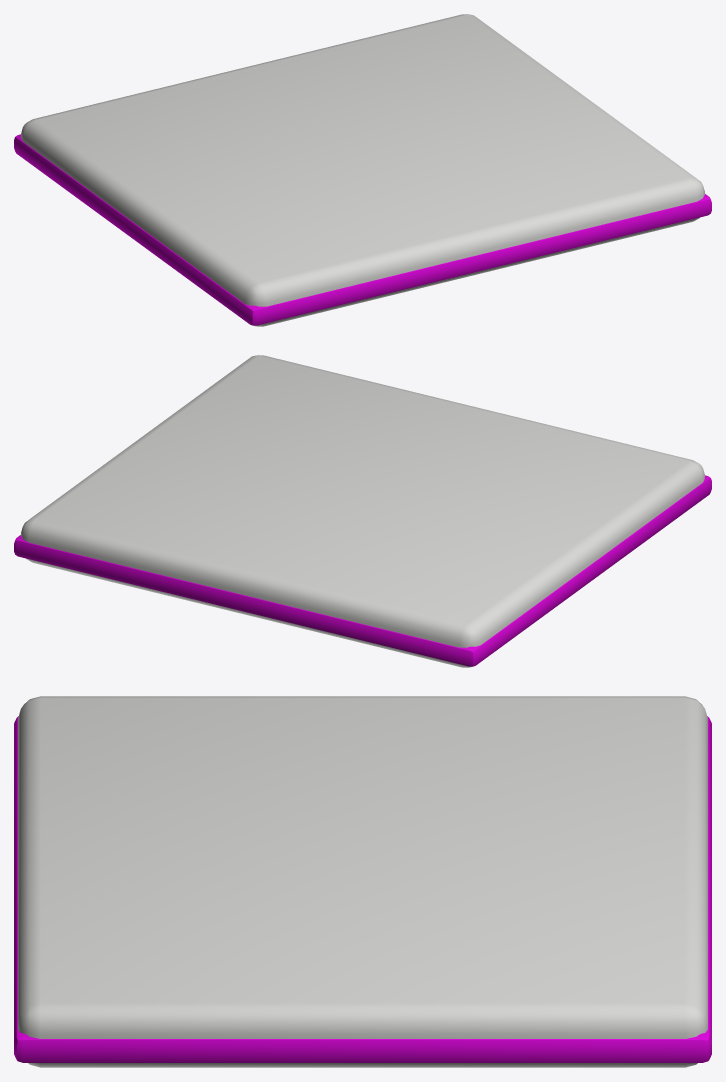
Rendered from Prop_Canopy.fbx.
The picture shows the model from 3 angles, top to bottom: view 1: azimuth 30°, elevation 25°; view 2: azimuth 150°, elevation 25°; view 3: azimuth 270°, elevation 25°; orthographic projection. The views are drawn at different scales.
Visible parts, largest first — view 1: Prop_Canopy; view 2: Prop_Canopy; view 3: Prop_Canopy.
Part boxes in pixels (bbox=[...]): Prop_Canopy: bbox=[14, 14, 711, 326]; Prop_Canopy: bbox=[14, 355, 711, 667]; Prop_Canopy: bbox=[14, 696, 711, 1067].
Size of the model in its own units: 10.1 by 0.9 by 9.1.
